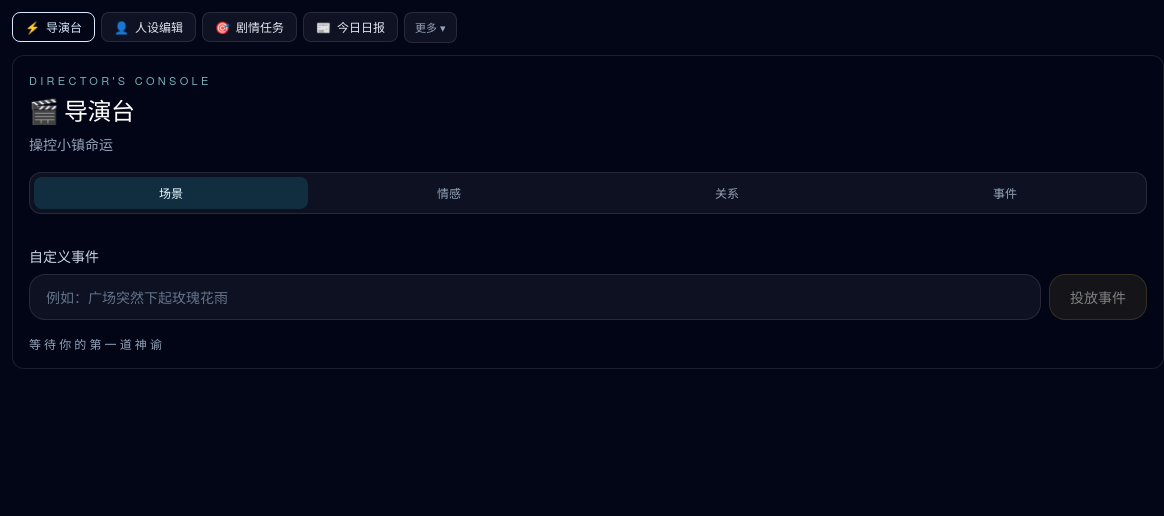
Scenario: Toolbar family tool › shows the family panel from the secondary toolbar row
Click the button with test id "more-toggle".
click(430, 27)  # box [404, 12, 456, 42]
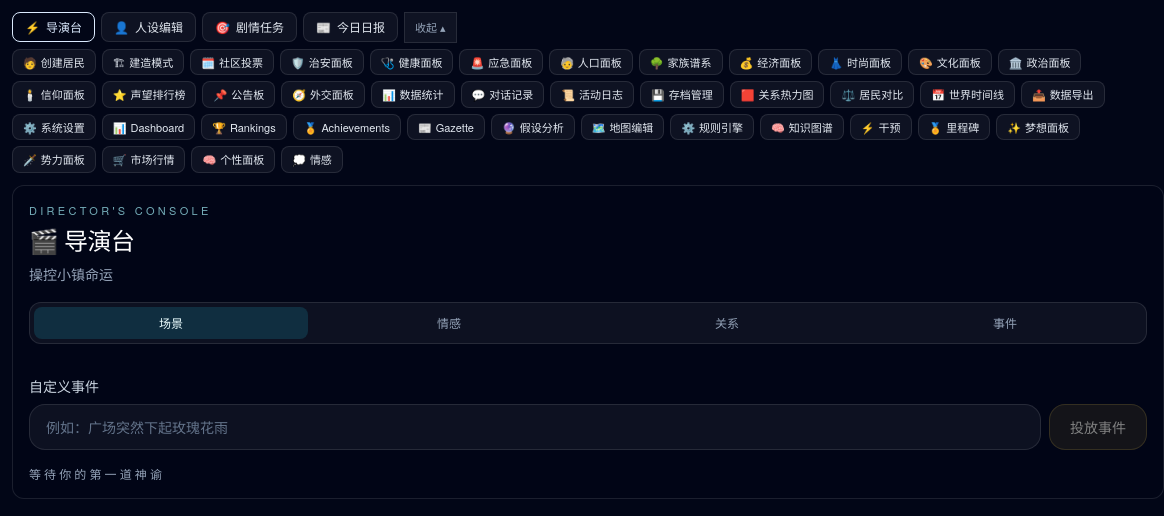
Click the button "🌳家族谱系".
click(681, 62)  # box [639, 48, 723, 75]
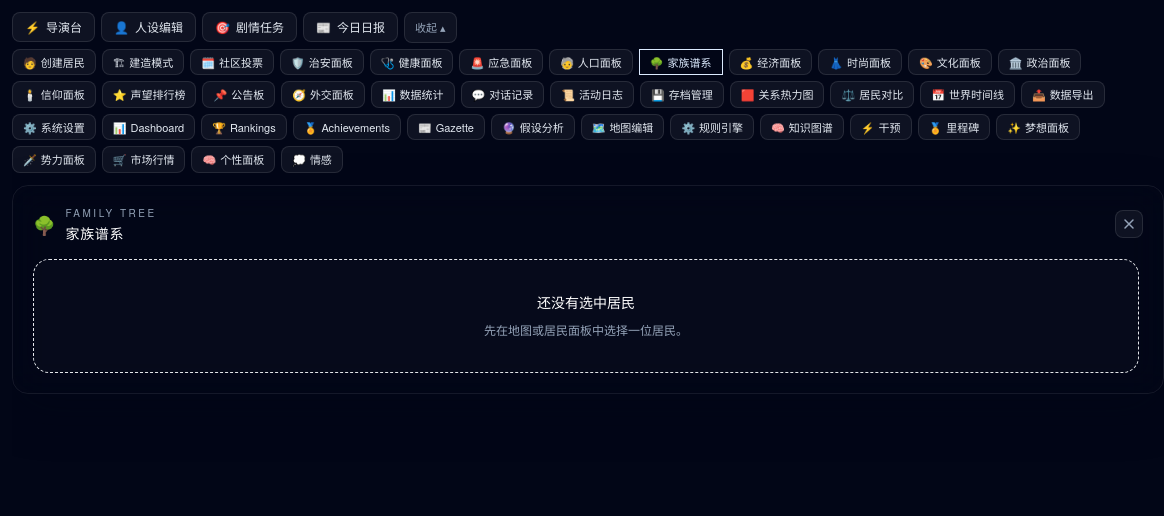
Result: the element with test id "family-panel" is shown at [33, 258, 1139, 372]
